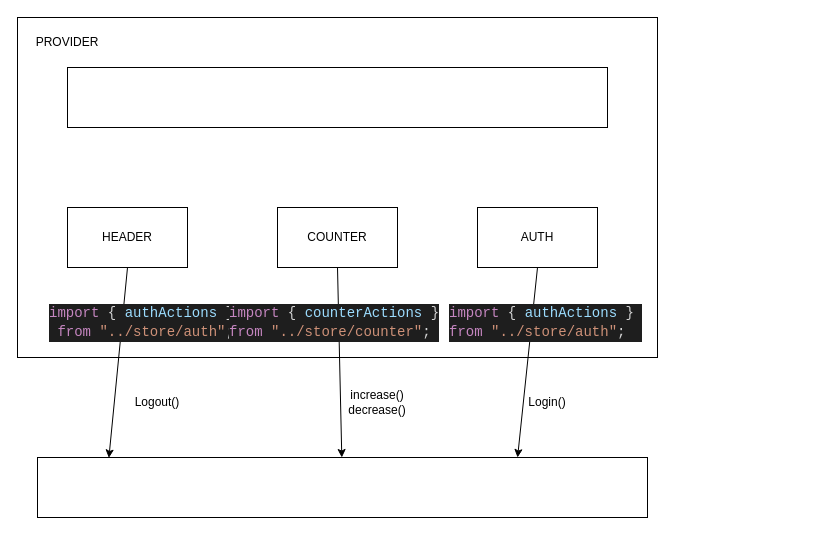
The diagram is 825 pixels wide and 535 high, and some of its shapes have lost their labels. Each missing label, with the centre of its shape:
"APP" goes at (x=337, y=97).
"STORE" goes at (x=342, y=487).
